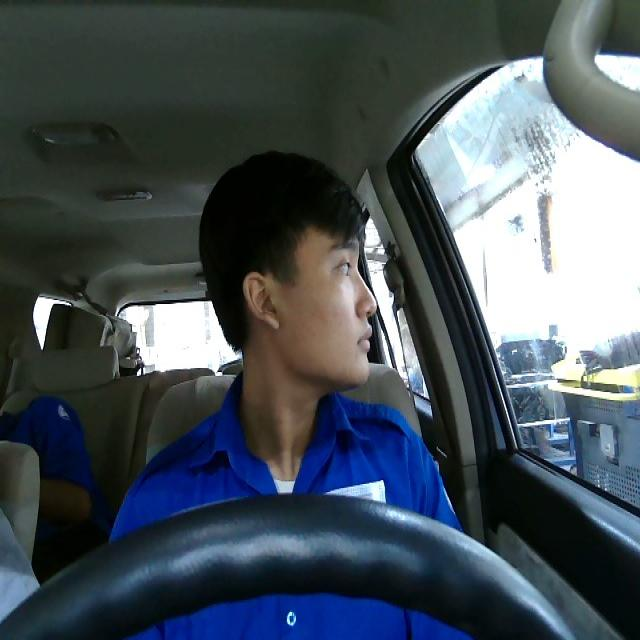seeing_right: (241, 223, 378, 385)
